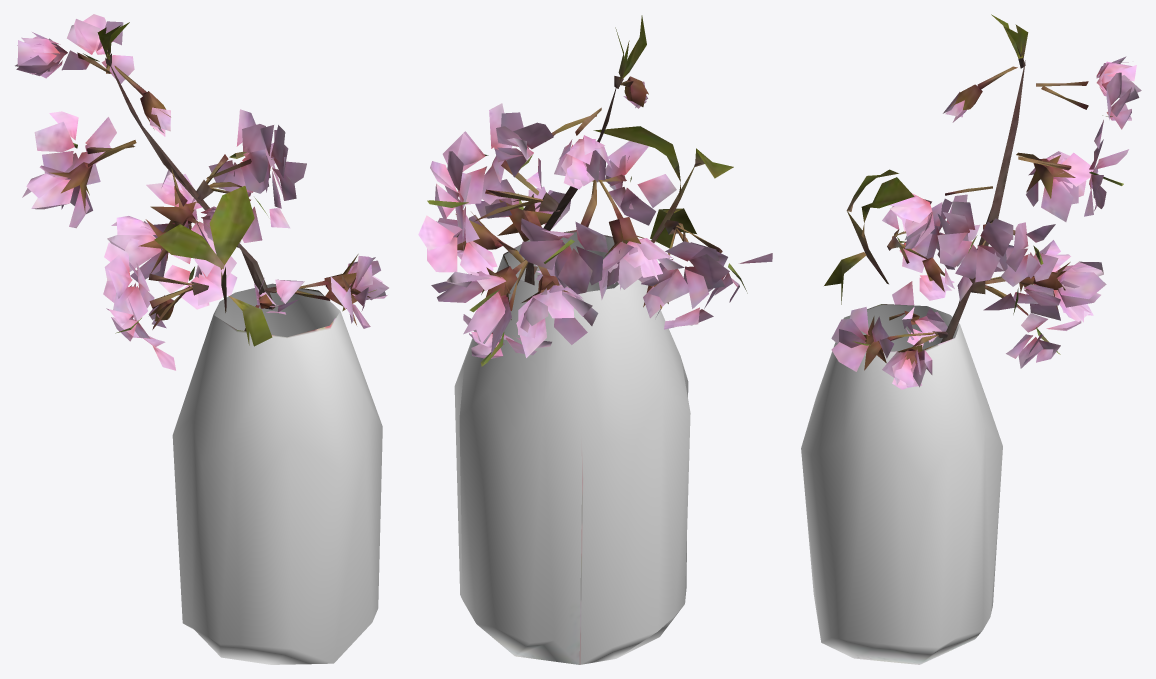
File: Vase0012.obj
3 renders of one model, left to right at view 1: azimuth 30°, elevation 25°; view 2: azimuth 150°, elevation 25°; view 3: azimuth 270°, elevation 25°, orthographic. The views are drawn at different scales.
Size of the model in its own units: 0.125 by 0.25 by 0.135.
Materials: 1 (1 with a texture image).
